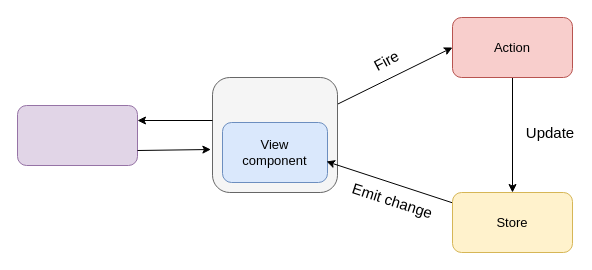
Image size: 592x270. Some labels were removed from this diagram. The box of each missing label's shape, as (x1, y1, x2, y2) in pixels:
Socket component wrapper: (212, 76, 338, 192)
Web API: (16, 104, 138, 166)
